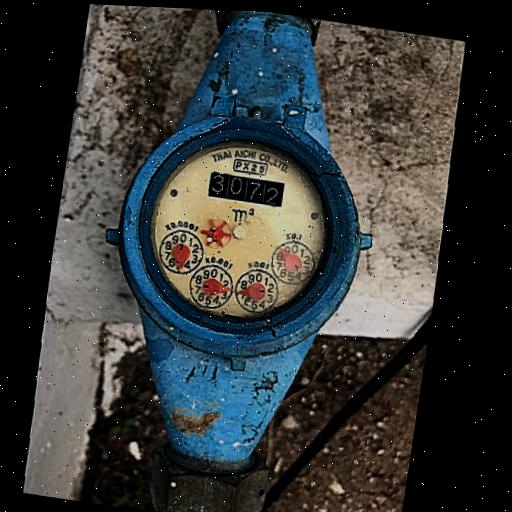0: (227, 175, 247, 202)
2: (263, 181, 285, 207)
3: (209, 172, 230, 199)
7: (245, 178, 265, 204)
border_water_meter_number: (207, 171, 285, 209)
